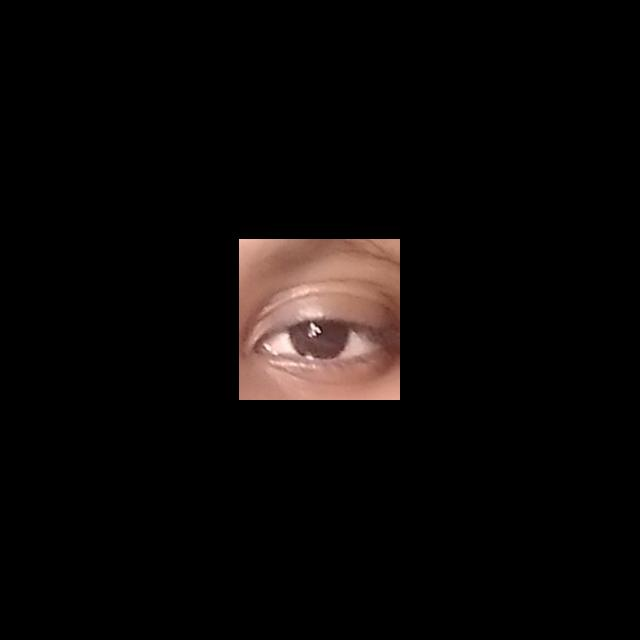eye: (266, 321, 381, 362)
iris: (289, 324, 351, 360)
